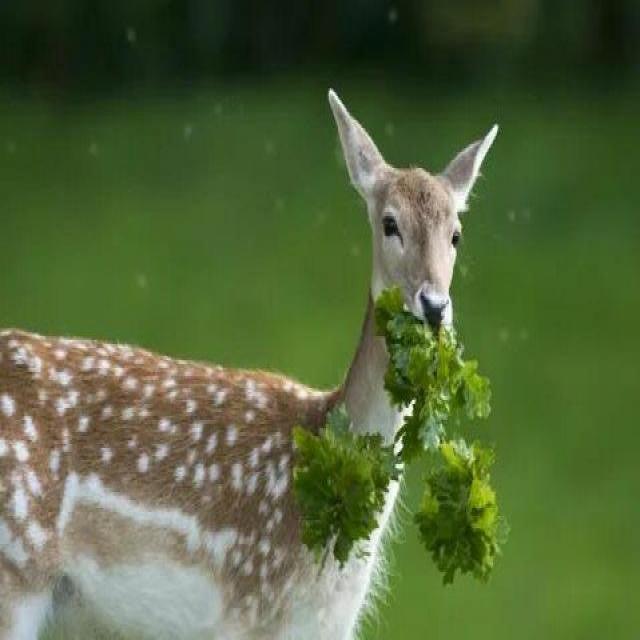deer: (0, 50, 557, 611)
